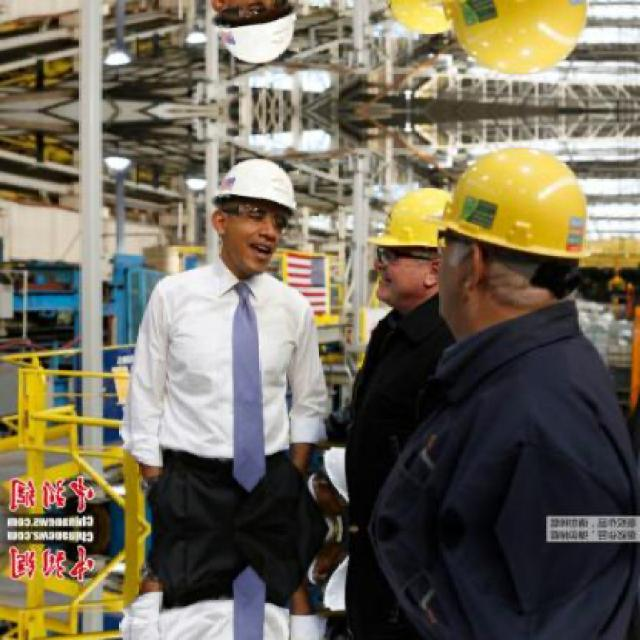con casco: (430, 128, 595, 296), (186, 147, 332, 257), (361, 168, 460, 276)
